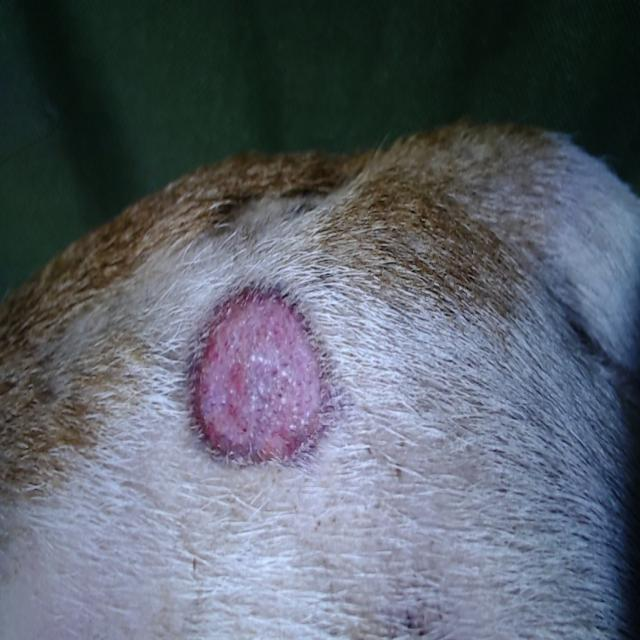ringworm: (170, 281, 360, 474)
